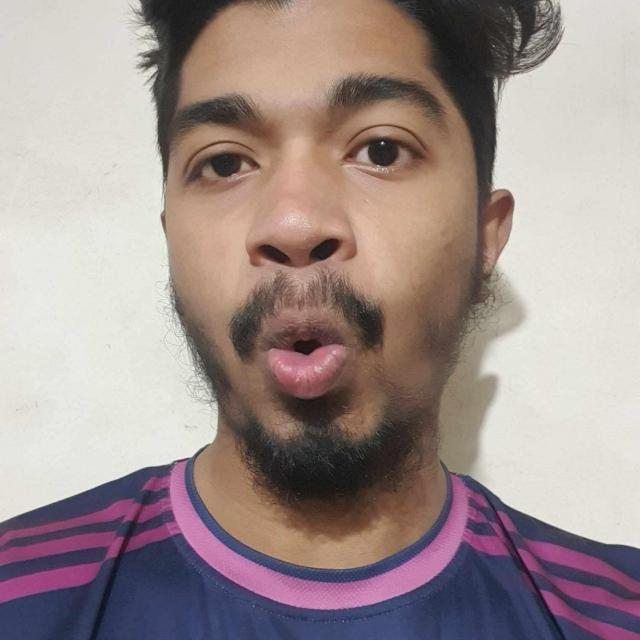Surprised: (45, 27, 558, 565)
